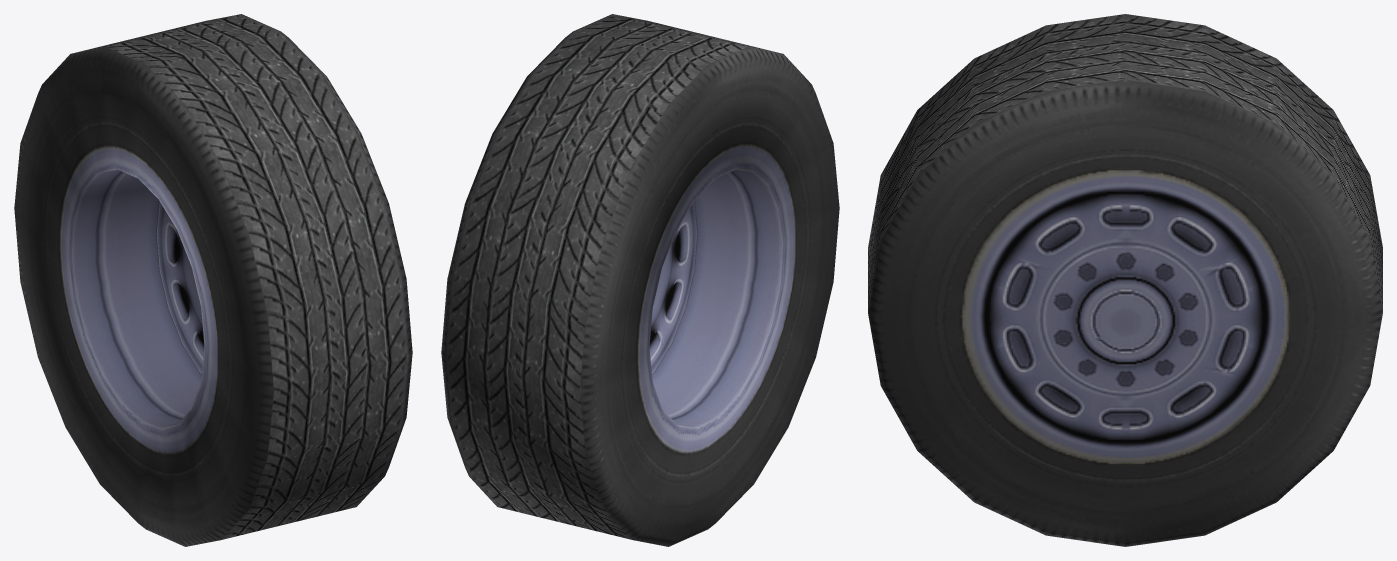
The model's file is Tire.fbx.
3 renders of one model, left to right at view 1: azimuth 30°, elevation 25°; view 2: azimuth 150°, elevation 25°; view 3: azimuth 270°, elevation 25°, orthographic.
Parts seen in each view (by area): view 1: polySurface1449; view 2: polySurface1449; view 3: polySurface1449.
Part boxes in pixels (x1,y1,x2,y2): polySurface1449: [14, 14, 412, 546]; polySurface1449: [441, 14, 839, 546]; polySurface1449: [868, 14, 1382, 546].
Bounding box in the file's own units: 6.92 × 18.89 × 18.89.
1 material, 1 textured.
